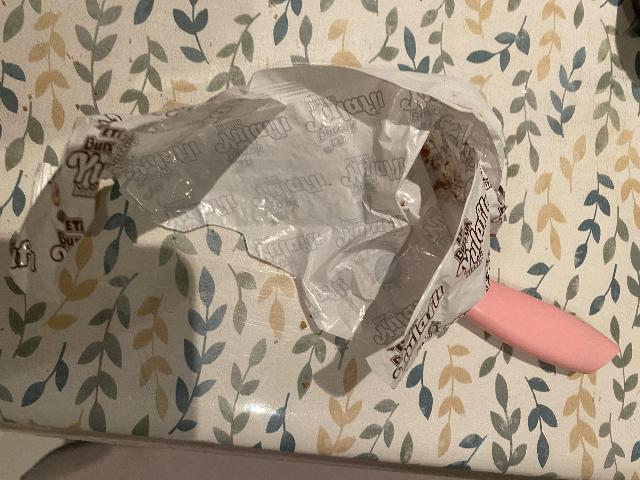Plastik: (27, 84, 498, 373)
